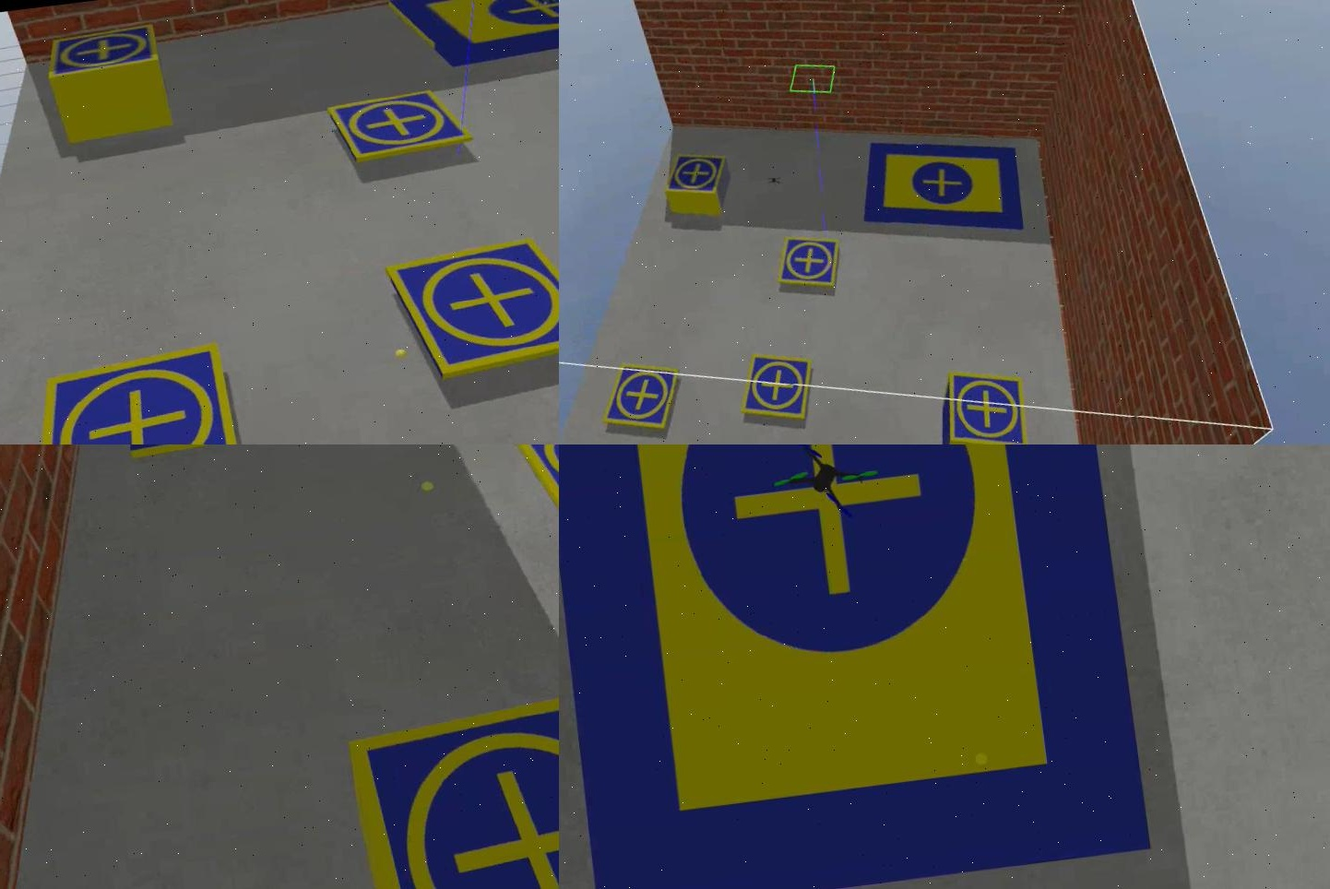large_base: (558, 445, 1149, 889), (851, 128, 1021, 251), (385, 1, 558, 77)
small_base: (340, 676, 558, 889), (382, 225, 558, 385), (7, 338, 249, 445), (323, 85, 469, 171), (595, 358, 683, 441), (938, 365, 1029, 445), (42, 22, 160, 82), (732, 349, 816, 430), (771, 232, 844, 295), (658, 150, 730, 203)
